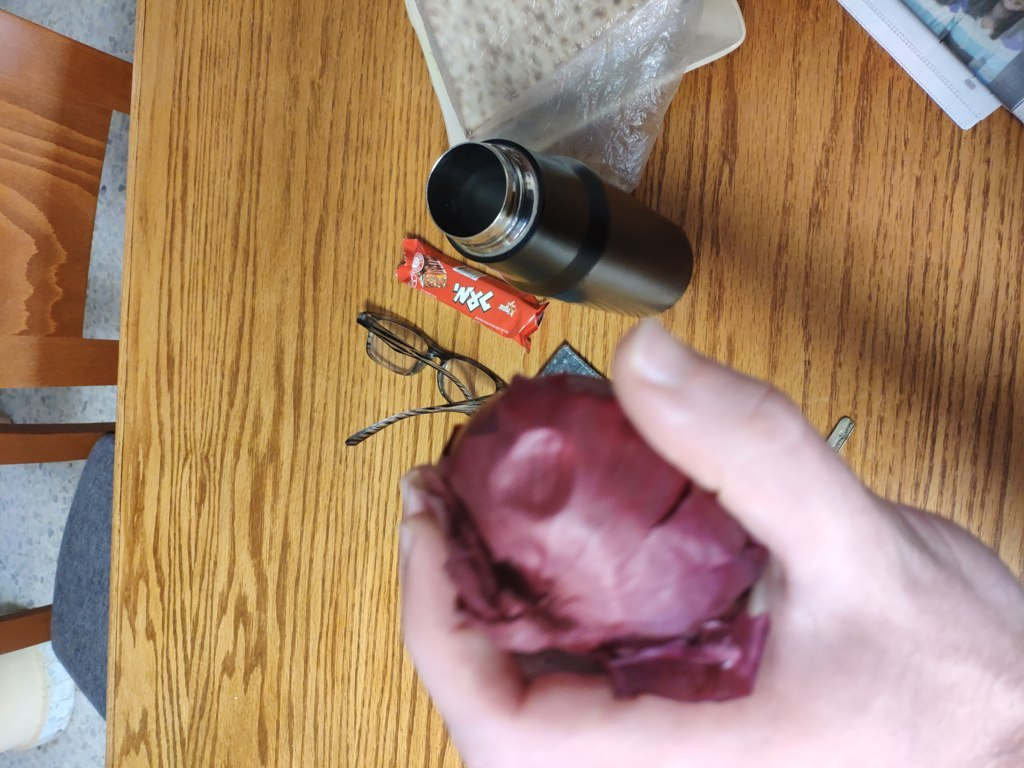Onion: (438, 386, 793, 670)
